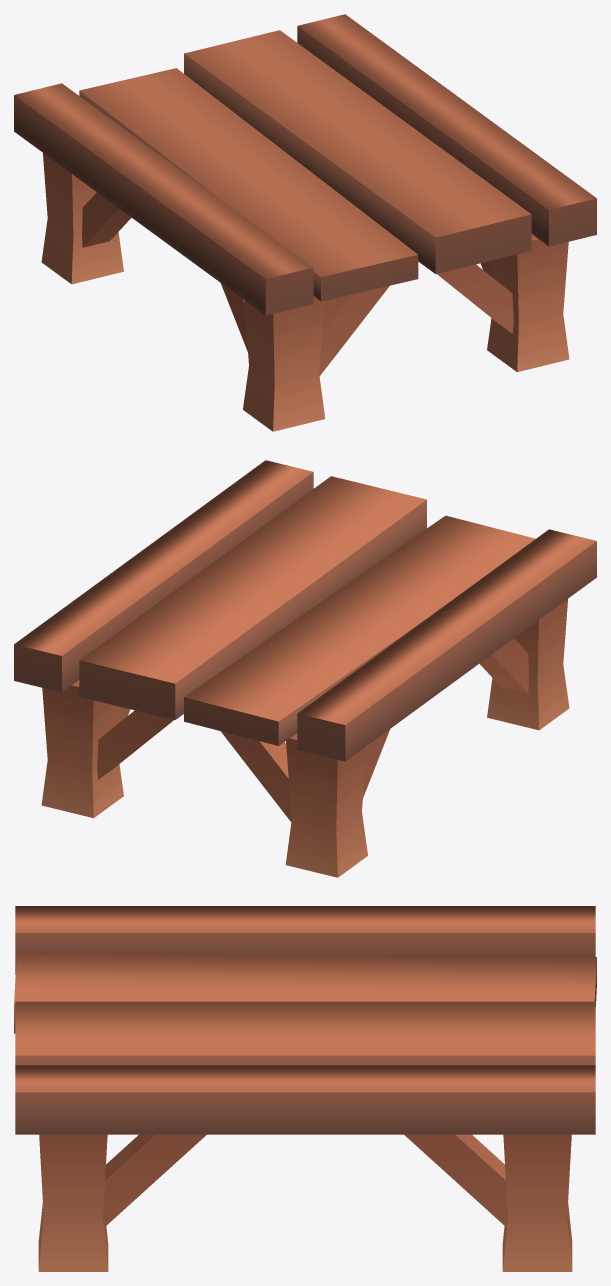
The model's file is structure-platform-small.glb.
The picture shows the model from 3 angles, top to bottom: view 1: azimuth 30°, elevation 25°; view 2: azimuth 150°, elevation 25°; view 3: azimuth 270°, elevation 25°; orthographic projection. The views are drawn at different scales.
Visible parts, largest first — view 1: structure-platform-small; view 2: structure-platform-small; view 3: structure-platform-small.
Part boxes in pixels (x1,y1,x2,y2): structure-platform-small: (14, 14, 596, 431); structure-platform-small: (14, 460, 596, 877); structure-platform-small: (14, 906, 596, 1271).
Size of the model in its own units: 1.9 by 0.9 by 2.51.
1 material, 1 textured.
